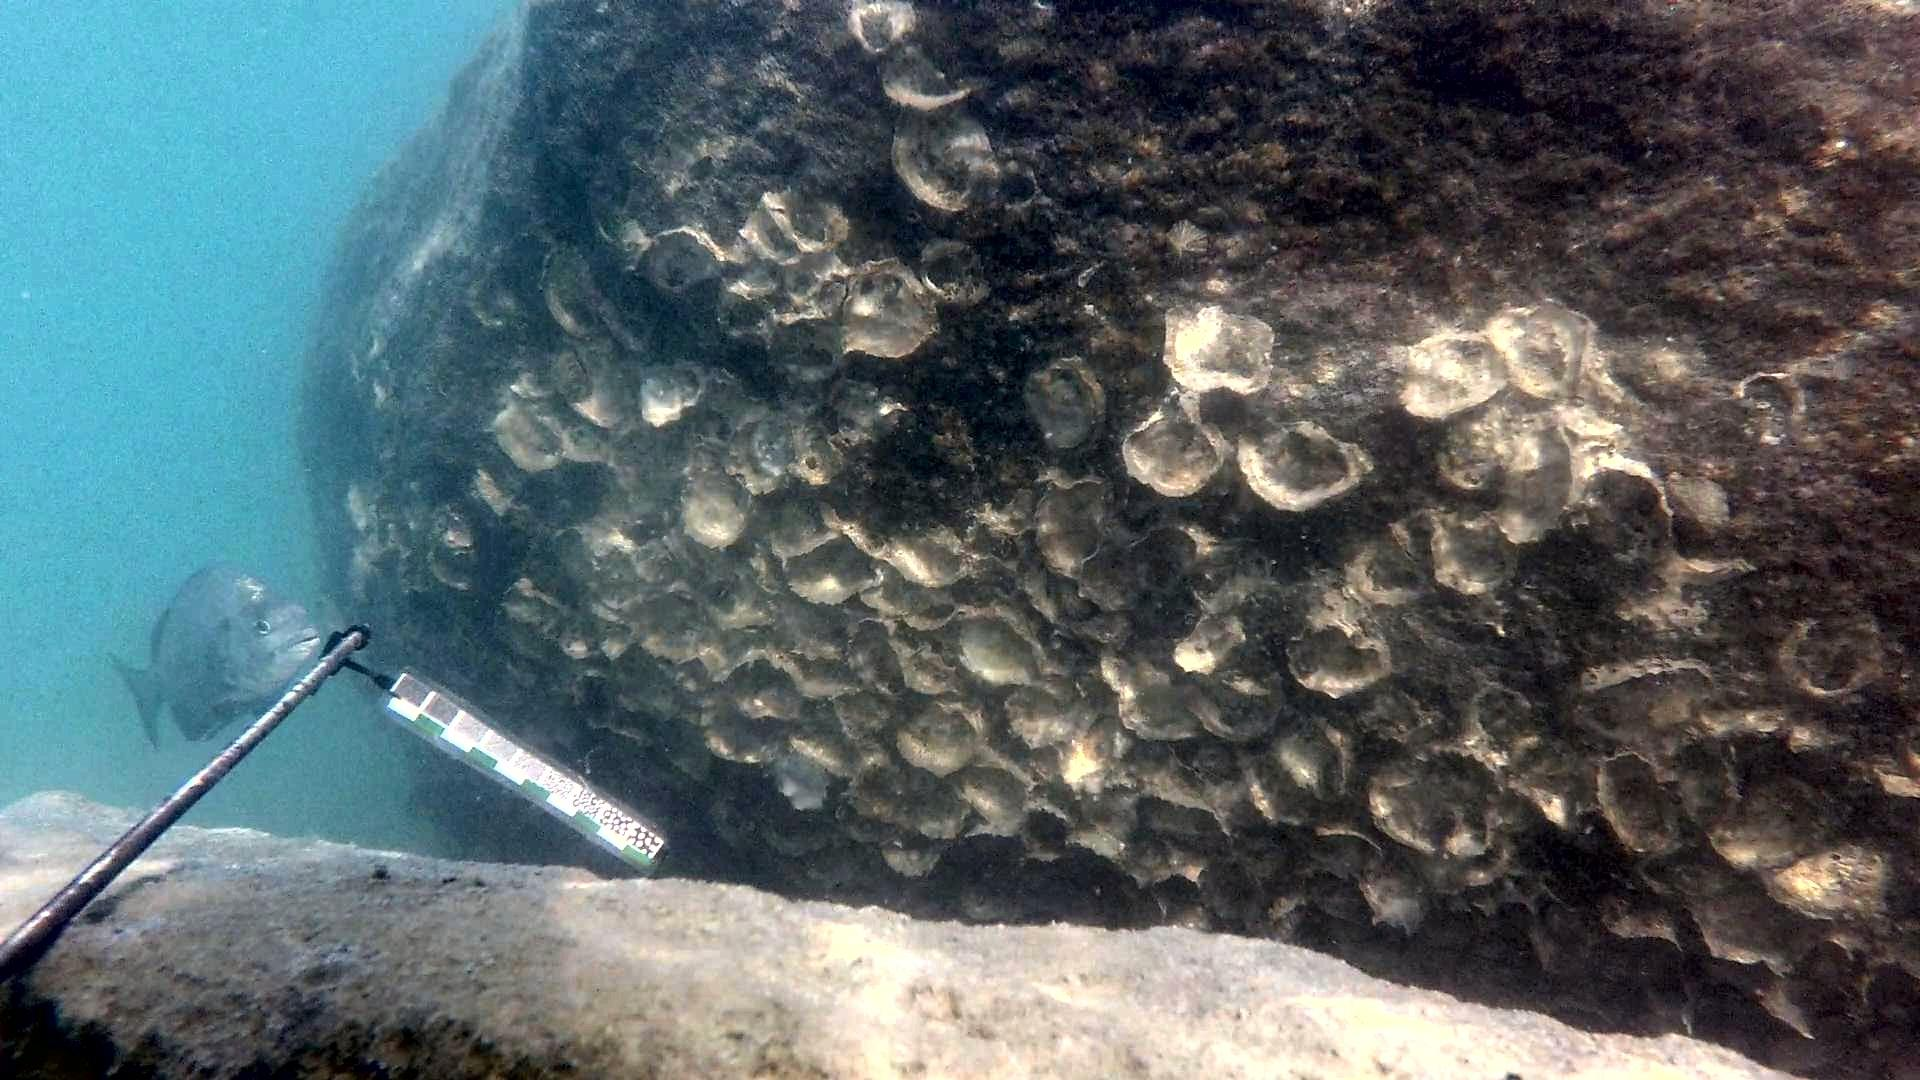acanthopagrus palmaris: (103, 550, 326, 758)
